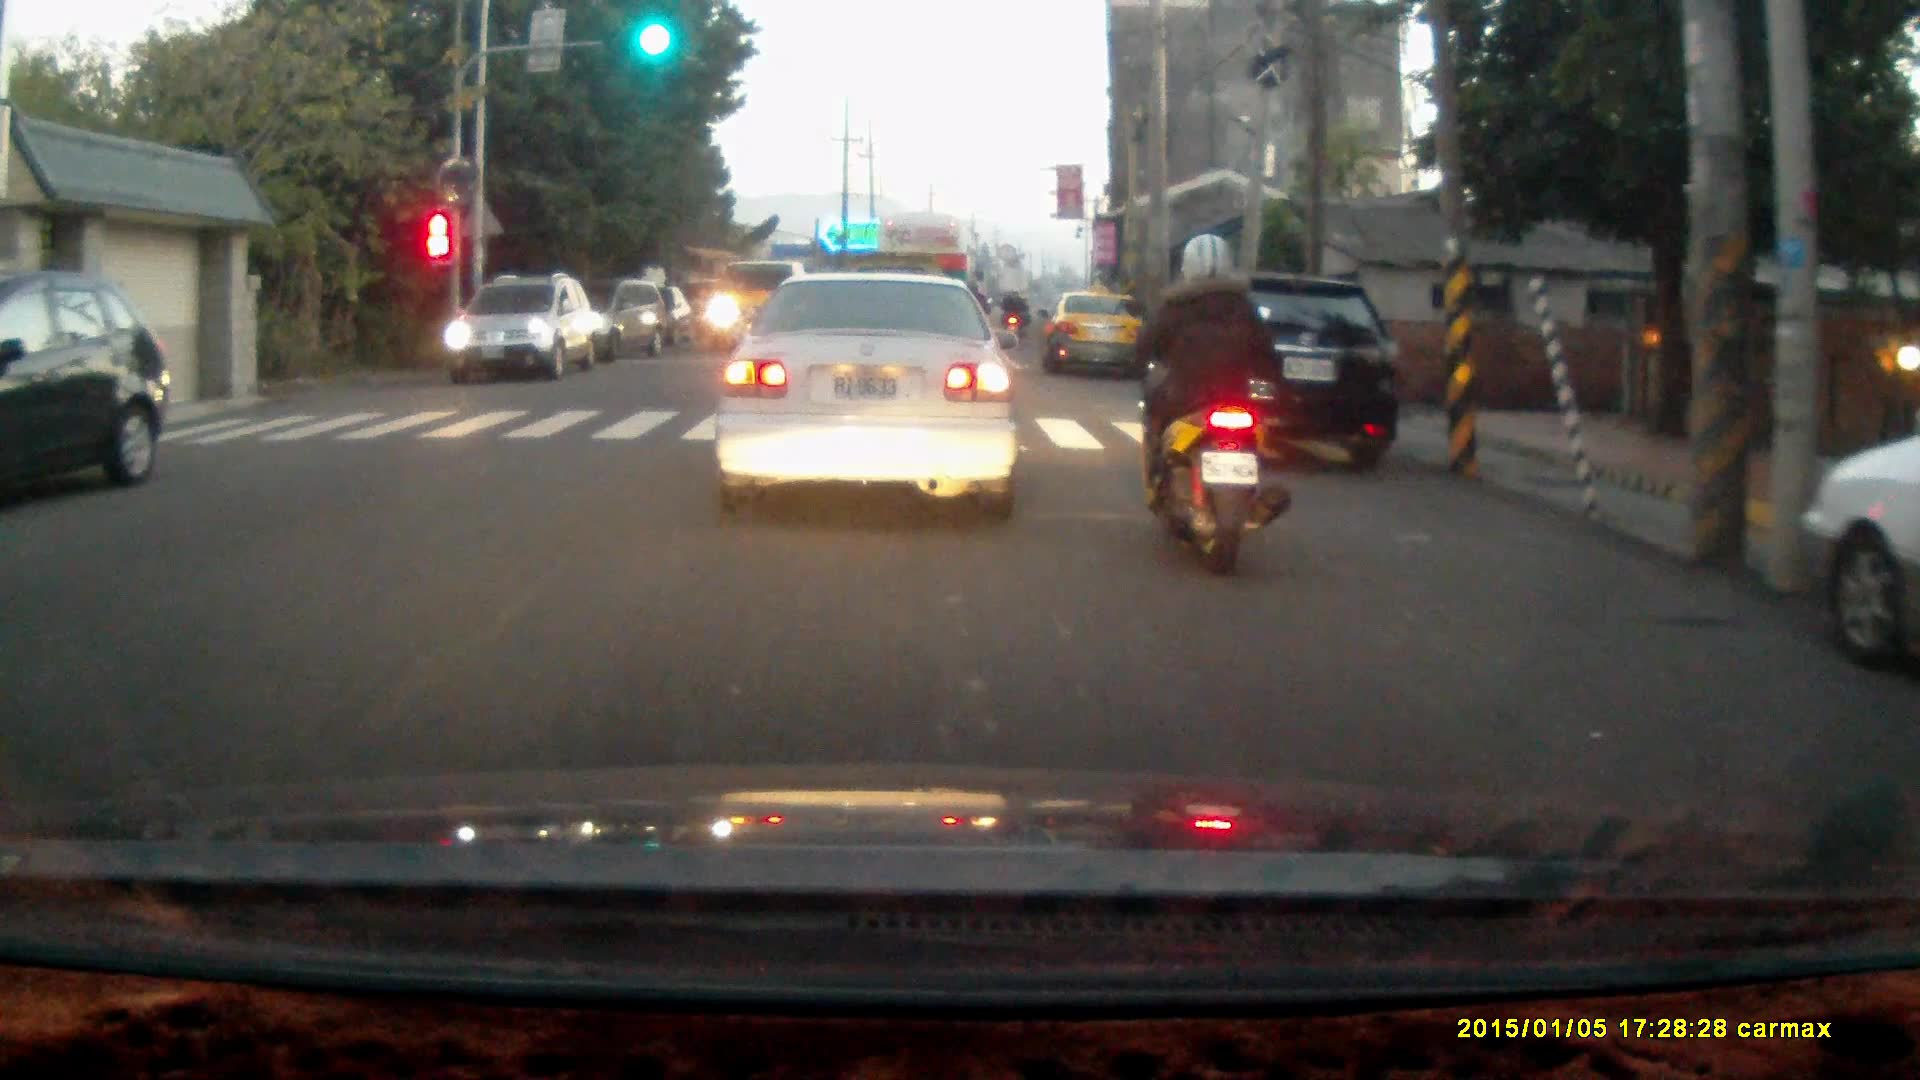rider: (1127, 228, 1292, 576)
vehicle: (710, 268, 1021, 525), (1134, 277, 1408, 474), (1, 270, 175, 495), (1792, 406, 1920, 676), (446, 279, 597, 393), (875, 212, 981, 356), (549, 278, 672, 368), (1042, 290, 1149, 380)
